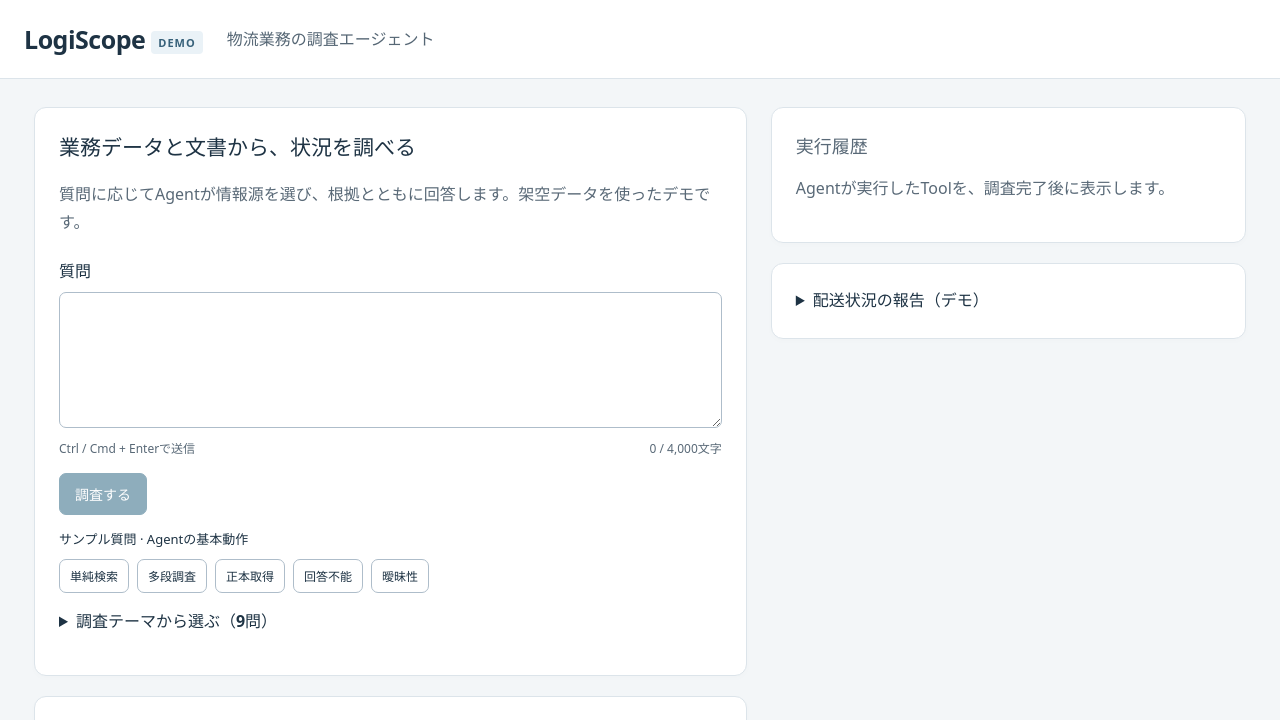
Scenario: duplicate sends are blocked and partial answer, sources and failed tool remain visible
Type "遅延原因は？" into the text box labelled "質問" at x=390, y=360, box top-left (59, 292), bottom-right (722, 428)
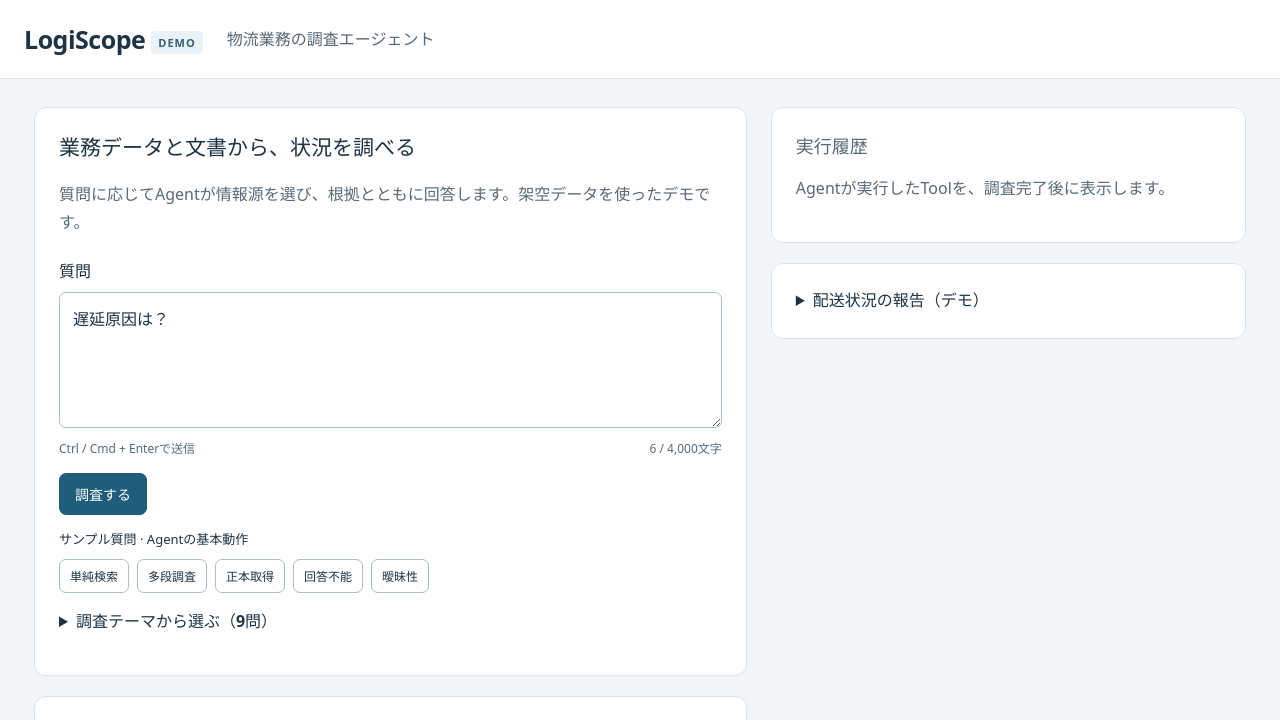
Submit the form "調査する", box top-left (59, 258), bottom-right (722, 515)
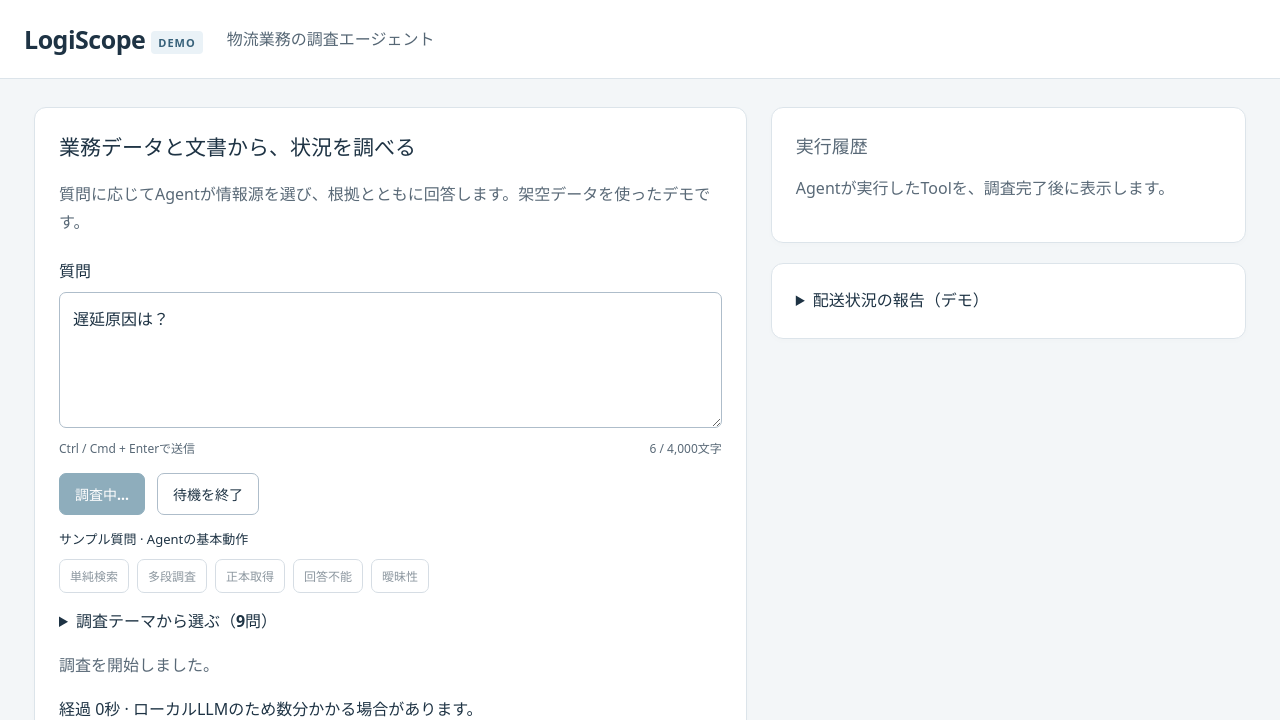
Submit the form named "調査する", box top-left (59, 258), bottom-right (722, 515)
(page scrolled)
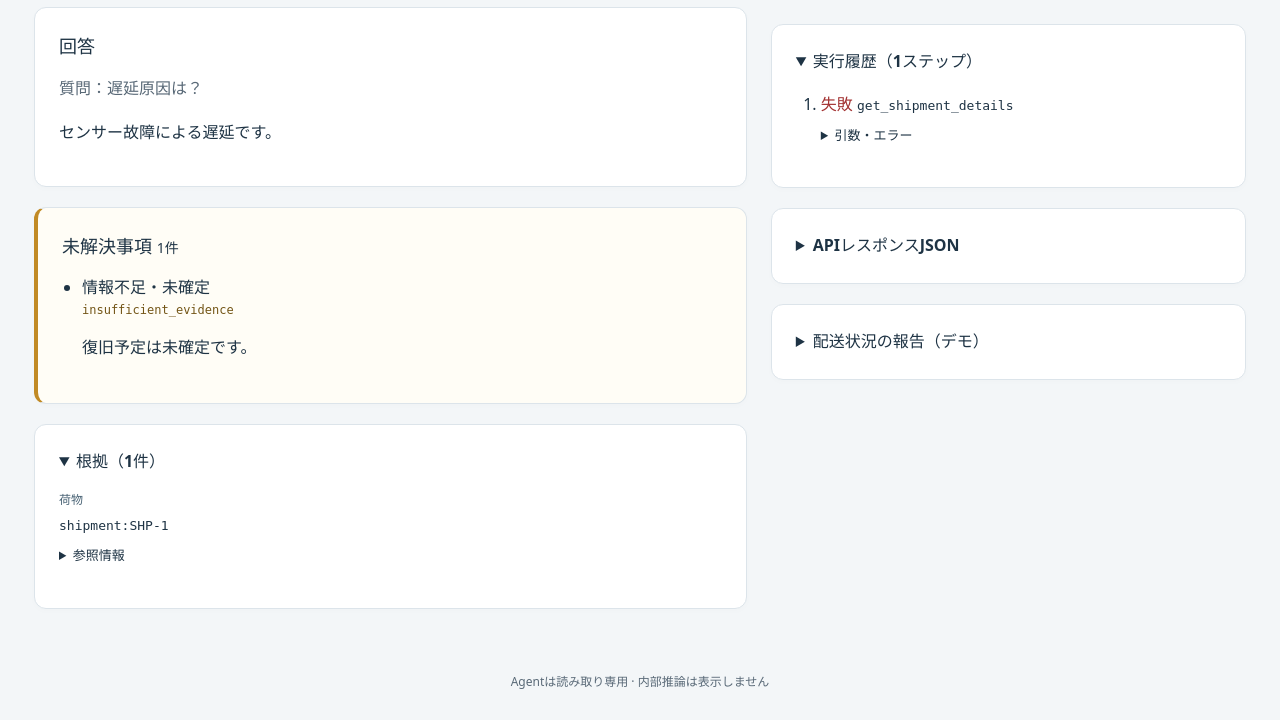
Check: the text "センサー故障による遅延です。" is shown, box top-left (59, 121), bottom-right (281, 143)
Check: the text "復旧予定は未確定です。" is shown, box top-left (82, 336), bottom-right (256, 358)
Check: the text "失敗" is shown, box top-left (821, 93), bottom-right (853, 115)
